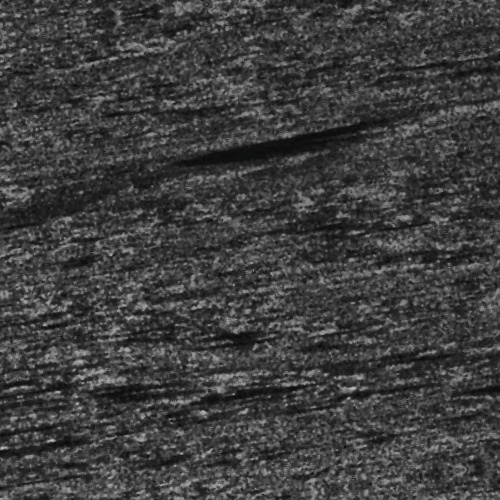object: (397, 137, 480, 160), (174, 364, 237, 369), (434, 378, 497, 383)
shadow: (224, 137, 439, 160), (332, 378, 465, 383), (110, 364, 205, 369), (476, 415, 500, 428)
